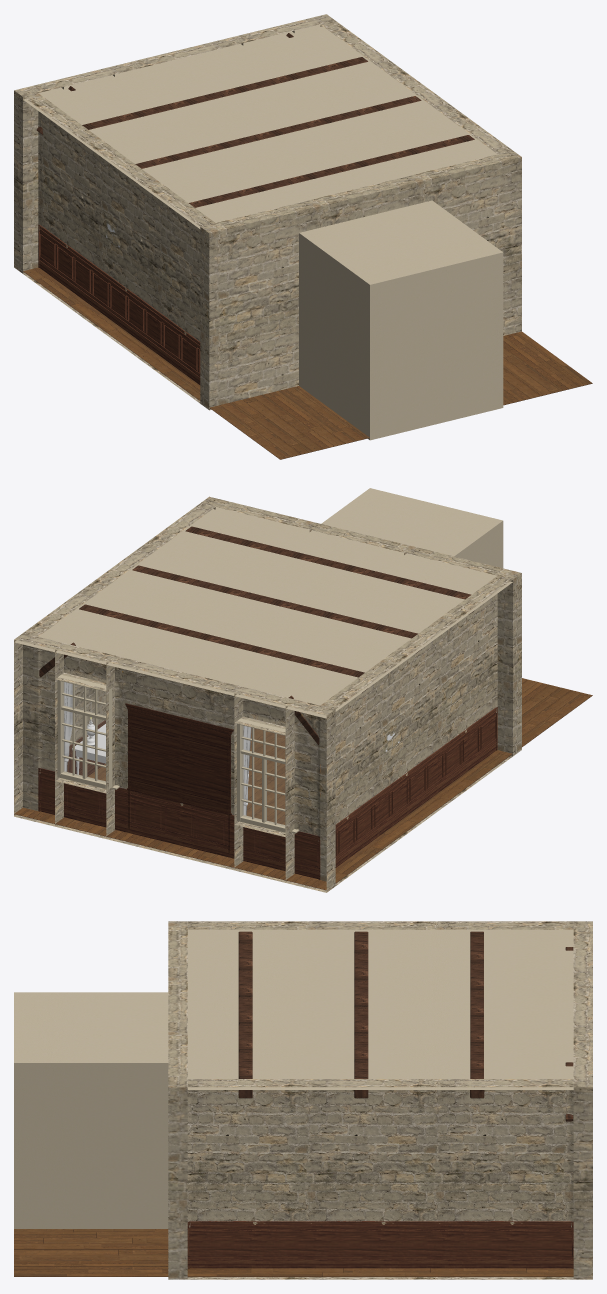
The model's file is room.low.glb.
3 renders of one model, top to bottom at view 1: azimuth 30°, elevation 25°; view 2: azimuth 150°, elevation 25°; view 3: azimuth 270°, elevation 25°, orthographic. The views are drawn at different scales.
Visible parts, largest first — view 1: ceiling, wall_back, floor, door_frame, beam_0; view 2: wall_back, ceiling, door_frame, floor, bookcase, beam_0, window_left_frame, window_left_glass, curtain_left_a, floor_joints, desk; view 3: ceiling, wall_back, door_frame, floor, beam_0, floor_joints.
Boxes of the visible parts, x1,y1,x2,y2 form: ceiling: [23, 24, 503, 440]; wall_back: [14, 14, 521, 410]; floor: [23, 267, 592, 459]; door_frame: [38, 224, 200, 384]; beam_0: [36, 33, 474, 223]; wall_back: [14, 496, 521, 892]; ceiling: [14, 488, 512, 718]; door_frame: [38, 707, 497, 879]; floor: [14, 678, 592, 889]; bookcase: [125, 703, 233, 853]; beam_0: [39, 526, 474, 745]; window_left_frame: [57, 674, 298, 833]; window_left_glass: [63, 682, 284, 826]; curtain_left_a: [64, 682, 251, 815]; floor_joints: [14, 680, 592, 890]; desk: [72, 724, 105, 774]; ceiling: [14, 929, 573, 1228]; wall_back: [168, 921, 592, 1279]; door_frame: [187, 1221, 573, 1268]; floor: [14, 1229, 573, 1276]; beam_0: [238, 931, 573, 1121]; floor_joints: [14, 1229, 573, 1276].
Size of the model in its own units: 6.1 by 3.3 by 9.
20 materials, 7 textured.
